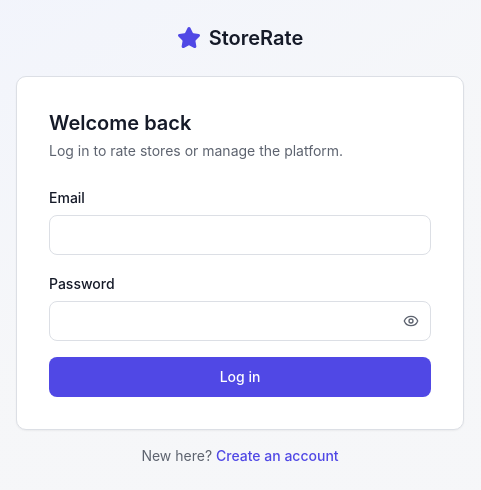
Scenario: LoginPage › rejects a malformed email
Type "nope" into the field labelled "Email" at (240, 235), box top-left (49, 215), bottom-right (431, 255)
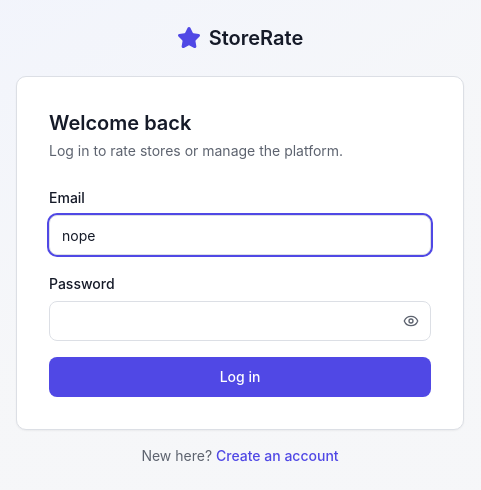
Type "x" into the password field labelled "Password" at (240, 321), box top-left (49, 301), bottom-right (431, 341)
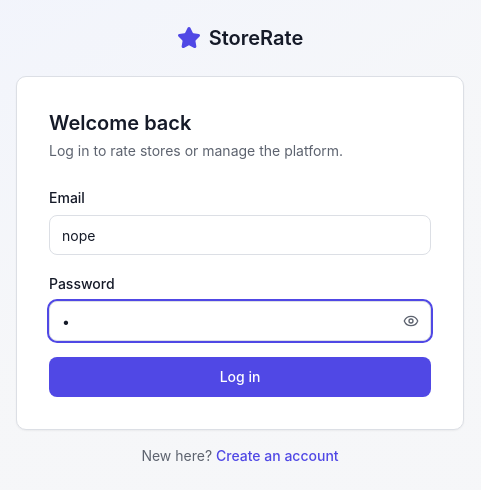
Click the button "Log in" at (240, 377), box top-left (49, 357), bottom-right (431, 397)
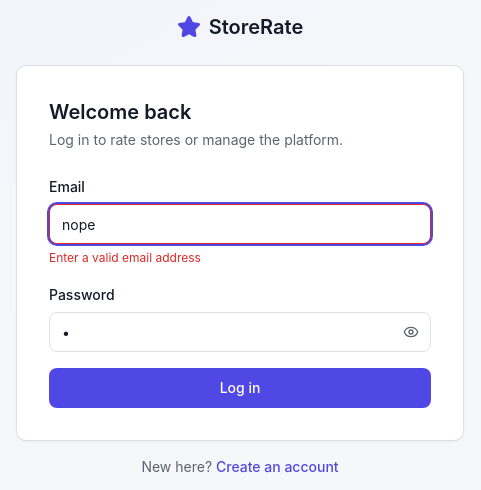
Result: the text "Enter a valid email address" is shown at top-left (49, 250), bottom-right (201, 265)
